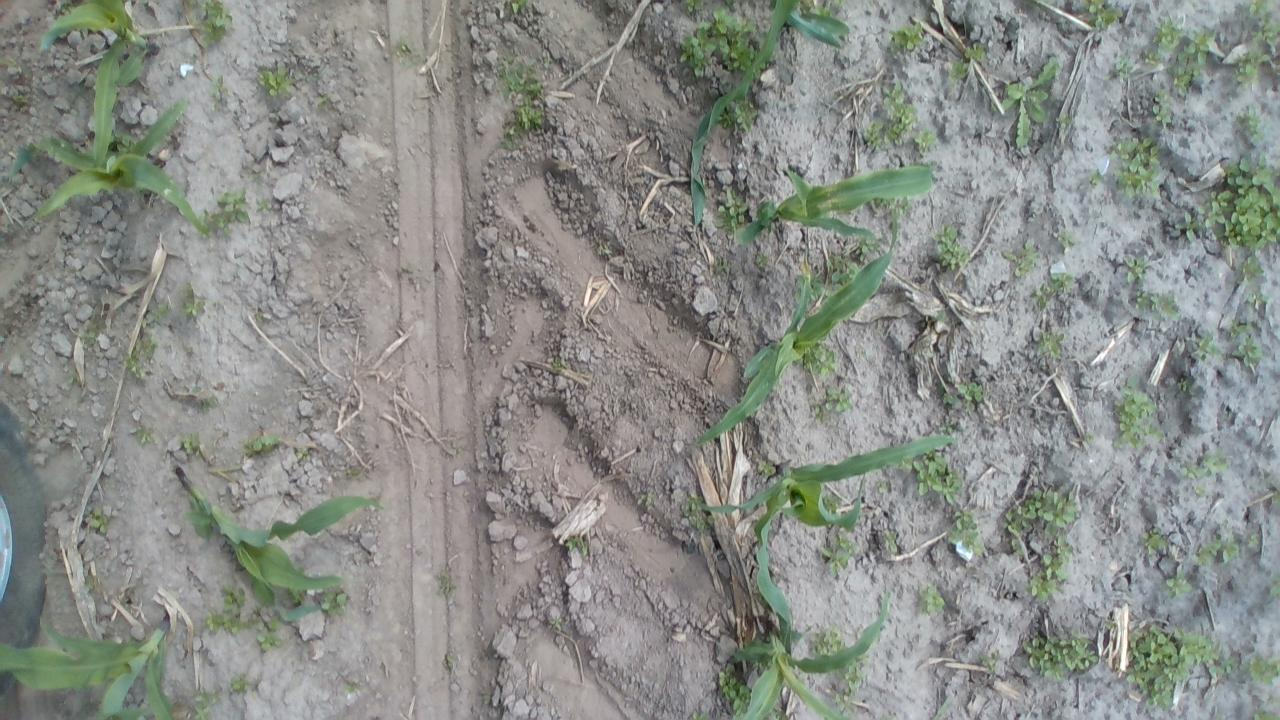Maize: (686, 432, 954, 632), (685, 212, 898, 439), (5, 36, 204, 234), (691, 0, 849, 226), (171, 464, 383, 627), (730, 590, 890, 720), (1, 608, 178, 720), (738, 167, 934, 243), (37, 1, 161, 69)
Weeds: (1131, 620, 1229, 708), (1227, 154, 1280, 252), (999, 58, 1055, 147), (1002, 486, 1072, 536), (1120, 136, 1162, 190), (1114, 390, 1154, 438), (1046, 634, 1096, 672), (678, 27, 714, 76), (1177, 448, 1225, 483), (1170, 52, 1206, 98), (1234, 52, 1280, 86), (718, 26, 753, 70), (197, 0, 230, 46), (820, 540, 859, 578), (1002, 240, 1043, 276), (954, 506, 984, 555), (1238, 103, 1271, 146), (499, 60, 536, 97), (935, 225, 968, 266), (1242, 652, 1276, 689), (1198, 536, 1238, 567), (889, 101, 917, 143), (716, 193, 750, 226), (1252, 16, 1280, 56), (914, 458, 944, 494), (1150, 10, 1183, 42), (1185, 23, 1215, 58), (1042, 546, 1070, 583), (719, 670, 746, 708), (1089, 0, 1121, 29), (258, 68, 291, 96), (1174, 210, 1204, 240), (221, 190, 251, 220), (894, 22, 926, 50), (824, 384, 852, 415), (700, 10, 740, 31), (1045, 500, 1075, 528), (1148, 291, 1180, 317), (678, 496, 704, 528), (245, 434, 278, 458), (1167, 564, 1190, 598), (84, 506, 110, 536), (934, 474, 960, 503), (1106, 52, 1134, 78), (920, 586, 944, 616), (1188, 332, 1218, 356), (1124, 253, 1150, 280), (1236, 332, 1262, 358), (206, 212, 232, 238), (192, 688, 218, 714), (1196, 203, 1224, 227), (1132, 86, 1156, 114), (809, 628, 842, 648), (880, 82, 904, 109), (731, 104, 758, 128), (130, 357, 154, 384), (1026, 636, 1046, 668), (1030, 573, 1056, 597), (251, 606, 277, 630), (915, 128, 937, 154), (814, 349, 836, 375), (1135, 45, 1161, 66), (1154, 96, 1172, 126), (1038, 334, 1062, 356), (521, 106, 543, 130), (1244, 254, 1264, 280), (1206, 189, 1232, 209), (222, 589, 245, 611), (827, 263, 853, 282), (144, 302, 166, 324), (864, 122, 884, 146), (1148, 533, 1166, 559), (132, 336, 158, 354), (881, 530, 900, 554), (845, 667, 862, 693), (958, 382, 982, 400), (1036, 285, 1054, 309), (1050, 272, 1074, 290), (317, 594, 347, 608), (755, 244, 772, 268), (946, 59, 966, 79), (208, 612, 227, 633), (1252, 706, 1280, 720), (966, 42, 986, 61), (1053, 229, 1074, 247), (258, 633, 280, 650), (1244, 0, 1268, 15), (505, 122, 517, 152), (185, 299, 203, 319), (229, 614, 247, 634), (211, 76, 226, 100), (1132, 288, 1148, 310), (1245, 527, 1259, 552), (439, 574, 453, 598), (834, 694, 856, 708), (396, 36, 412, 54), (232, 672, 247, 691), (182, 438, 198, 454), (940, 393, 958, 407), (138, 424, 150, 443), (977, 654, 995, 666), (718, 254, 730, 272), (1054, 114, 1070, 127), (512, 2, 528, 14), (722, 115, 732, 130), (568, 536, 578, 550), (1178, 378, 1188, 389), (553, 358, 562, 370), (810, 405, 820, 415), (298, 449, 309, 457), (404, 264, 415, 271)
